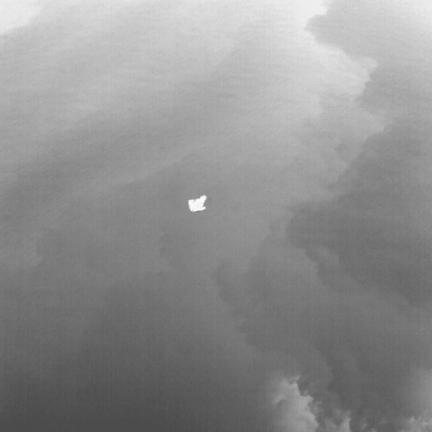flukeprints: (188, 195, 207, 211)
